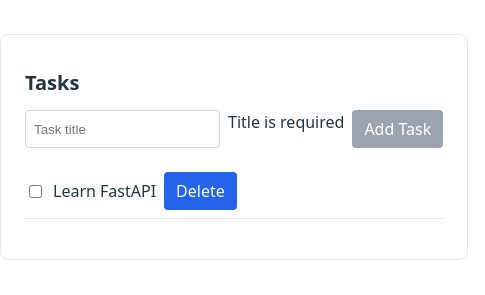
Test case: Task Page › shows error if toggle fails
The width and height of the screenshot is (485, 295).
Click the checkbox: {"x": 36, "y": 191} [29,185,42,198]
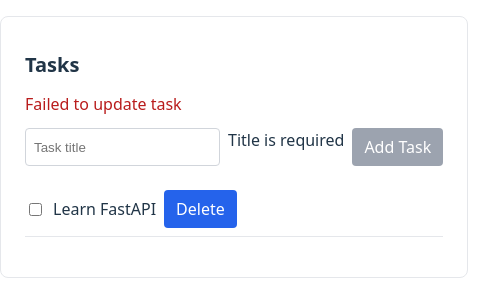
Result: the message reads "Failed to update task" at [25,93,182,115]
